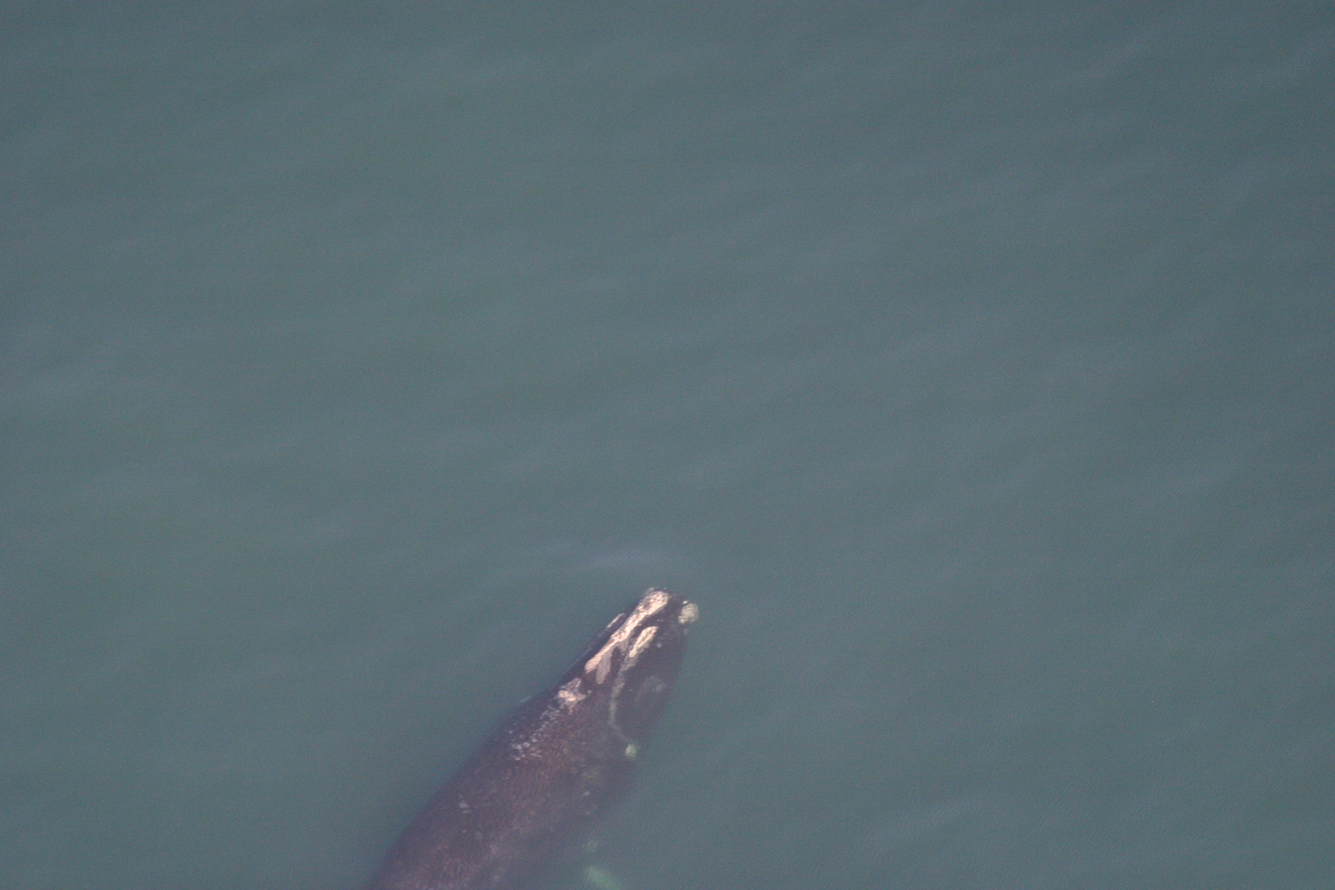whale: (343, 576, 711, 890)
